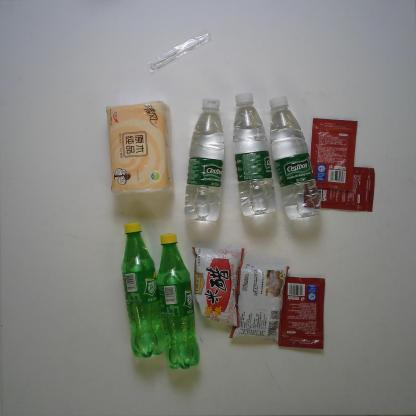Drink: (269, 94, 323, 222), (120, 220, 166, 359), (155, 231, 200, 371), (180, 97, 228, 224), (232, 92, 277, 218)
Seasoner: (228, 260, 291, 344), (190, 242, 247, 329), (307, 116, 359, 191), (277, 274, 326, 351), (301, 165, 377, 213)
Tissue: (103, 98, 178, 198)
